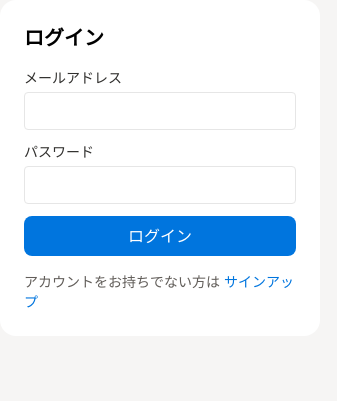
Test case: Login › 未入力で送信するとバリデーションエラーを表示する
The image size is (337, 401).
Click the button "ログイン": (160, 236) [24,216,296,256]
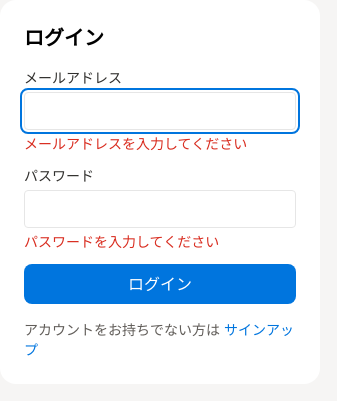
expect the text "メールアドレスを入力してください" is shown: met, box [24,135,247,152]
